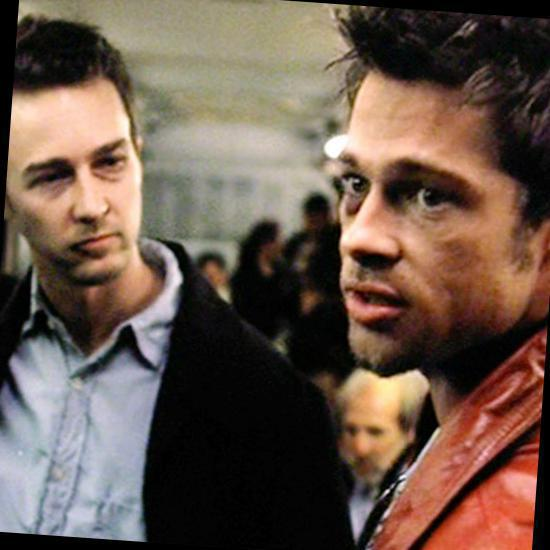Drunk: (334, 77, 513, 372), (14, 89, 141, 277)
